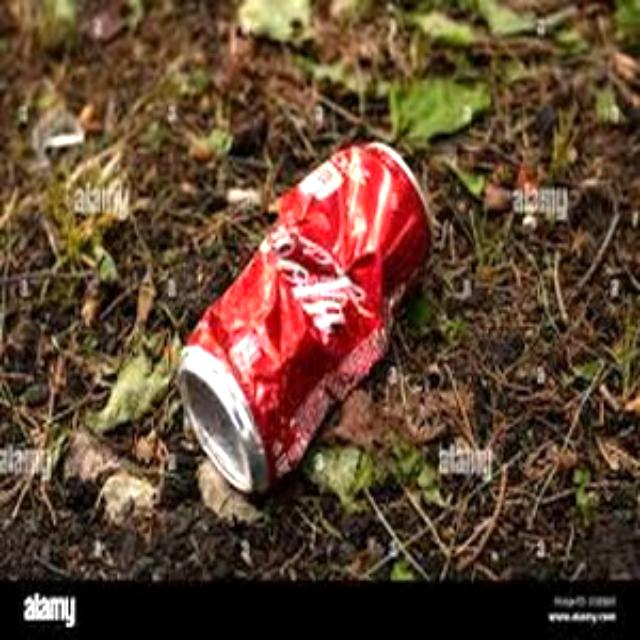Metal: (171, 129, 423, 495)
